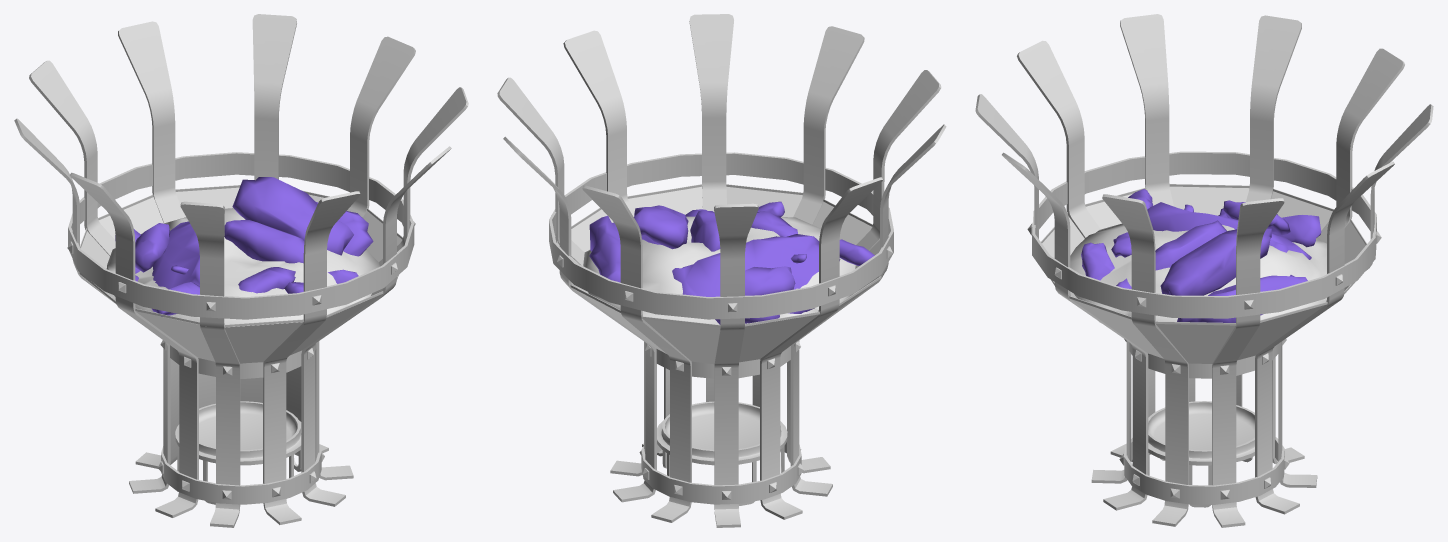
File: Brasero_01.fbx
3 views of the same model, side by side, from view 1: azimuth 30°, elevation 25°; view 2: azimuth 150°, elevation 25°; view 3: azimuth 270°, elevation 25° (orthographic).
Parts seen in each view (by area): view 1: Brasero, Charcoal, CutOut, Ashes; view 2: Brasero, Charcoal, CutOut, Ashes; view 3: Brasero, Charcoal, CutOut, Ashes.
Part boxes in pixels (box(x1,y1,x2,y2)): Brasero: box(14, 14, 468, 527); Charcoal: box(115, 177, 373, 316); CutOut: box(80, 187, 402, 363); Ashes: box(106, 208, 379, 327); Brasero: box(497, 14, 946, 527); Charcoal: box(589, 201, 874, 324); CutOut: box(558, 186, 886, 364); Ashes: box(583, 216, 856, 324); Brasero: box(975, 14, 1433, 527); Charcoal: box(1081, 189, 1321, 322); CutOut: box(1042, 186, 1365, 363); Ashes: box(1070, 223, 1326, 323).
Bounding box in the file's own units: 77.78 × 71.25 × 79.31.
